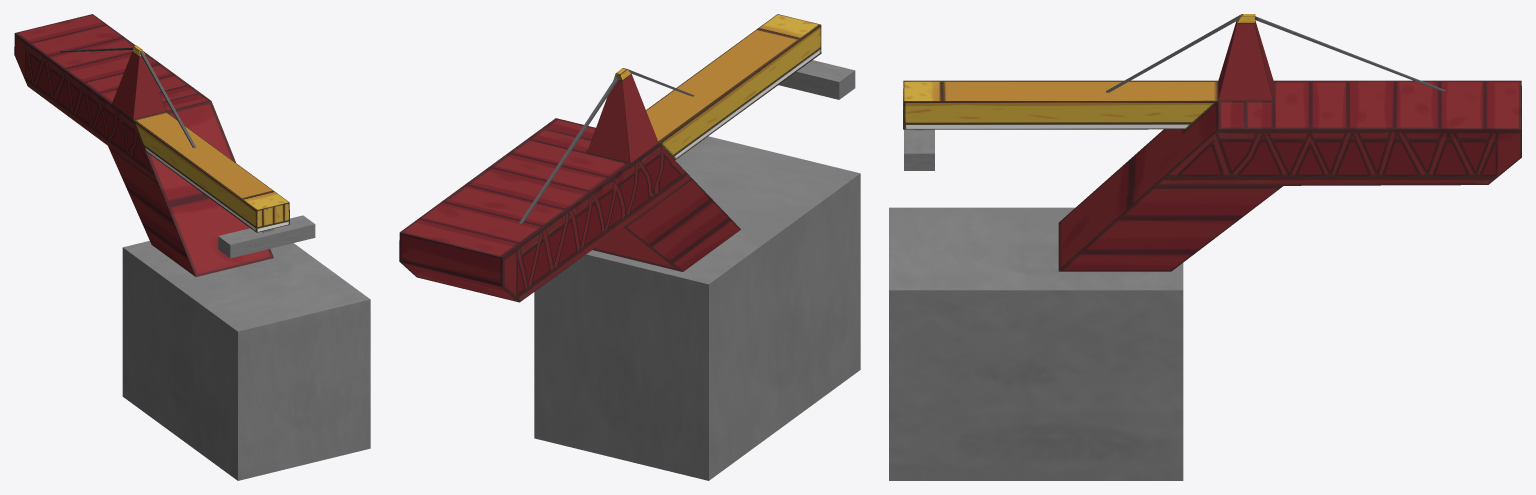
File: guindaste.fbx
3 renders of one model, left to right at view 1: azimuth 30°, elevation 25°; view 2: azimuth 150°, elevation 25°; view 3: azimuth 270°, elevation 25°, orthographic. The views are drawn at different scales.
Visible parts, largest first — view 1: guindaste; view 2: guindaste; view 3: guindaste.
Boxes of the visible parts, x1,y1,x2,y2 form: guindaste: [14, 14, 370, 480]; guindaste: [399, 14, 860, 480]; guindaste: [889, 14, 1521, 480].
Size of the model in its own units: 3605 by 8207 by 11518.
Materials: 1 (1 with a texture image).
